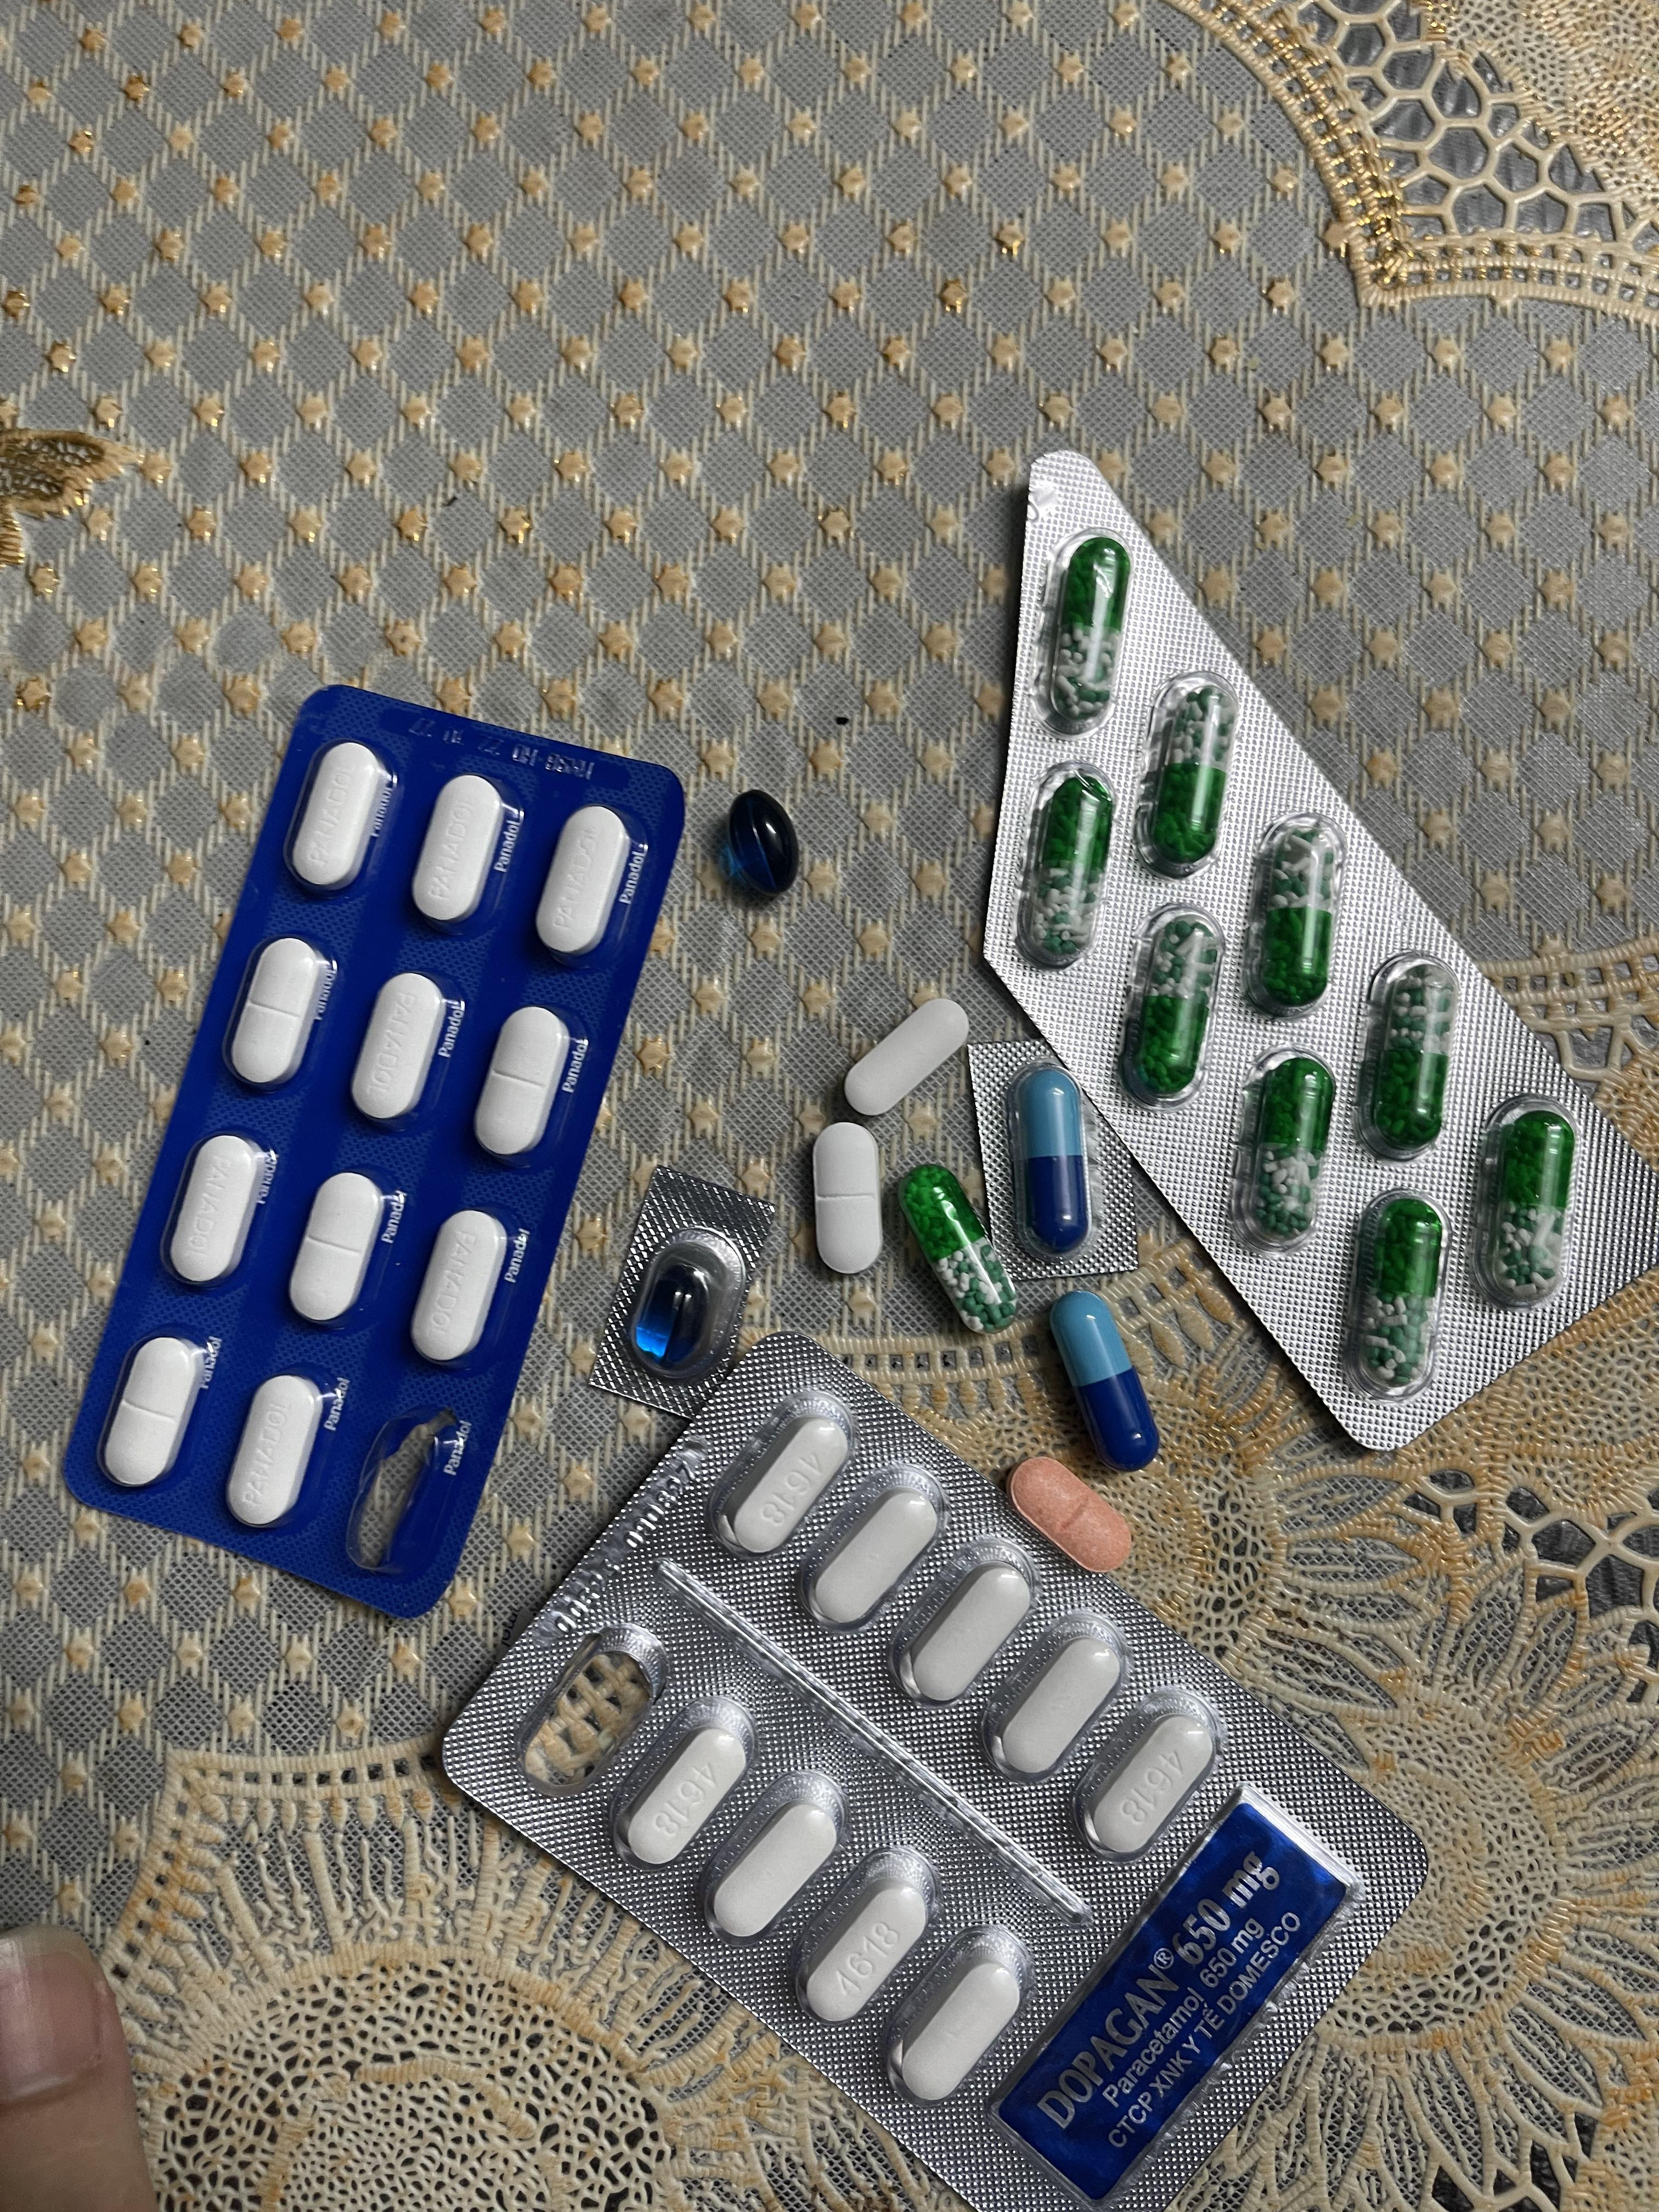Lincomyxin_500mg: (721, 791, 802, 900), (633, 1263, 711, 1364)
Loratadine_10mg: (1009, 1460, 1127, 1573)
Paracetamol_350mg: (101, 1336, 206, 1491), (410, 1211, 509, 1369), (167, 1134, 268, 1289), (228, 937, 328, 1094), (410, 773, 507, 928), (533, 806, 631, 961), (289, 742, 389, 894), (350, 974, 448, 1127), (227, 1378, 324, 1531), (476, 1007, 572, 1162), (289, 1174, 385, 1327), (812, 1123, 878, 1270)
Paracetamol_500mg: (617, 1693, 765, 1888), (793, 1841, 934, 2020), (887, 1536, 1037, 1702), (894, 1956, 1025, 2104), (713, 1794, 838, 1947), (810, 1482, 936, 1625), (993, 1635, 1119, 1777), (1087, 1714, 1208, 1855), (725, 1420, 843, 1554), (845, 1000, 971, 1120)
Paracetamol_650mg: (1474, 1099, 1581, 1303), (1345, 1195, 1448, 1400), (1230, 1050, 1335, 1252), (1121, 909, 1223, 1103), (1356, 954, 1455, 1153), (899, 1169, 1016, 1334), (1138, 681, 1241, 867), (1244, 820, 1342, 1010), (1018, 768, 1112, 958), (1044, 540, 1131, 730)
pill: (1047, 1291, 1157, 1468), (1009, 1066, 1094, 1256)
